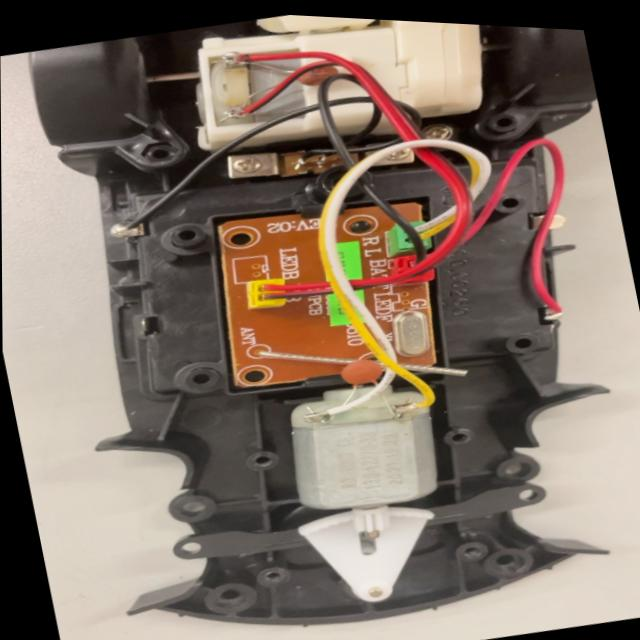motor: (268, 374, 455, 551)
